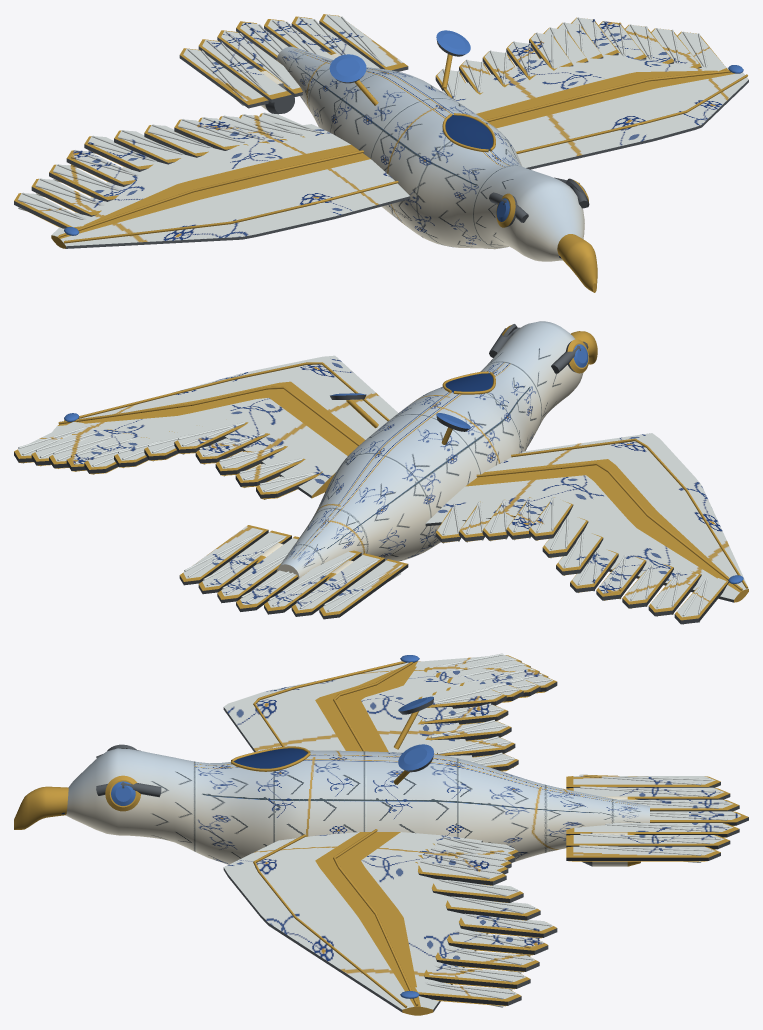
The picture shows the model from 3 angles, top to bottom: view 1: azimuth 30°, elevation 25°; view 2: azimuth 150°, elevation 25°; view 3: azimuth 270°, elevation 25°; orthographic projection. The views are drawn at different scales.
Visible parts, largest first — view 1: osprey_hull; view 2: osprey_hull; view 3: osprey_hull.
Boxes of the visible parts, bbox=[...] form: osprey_hull: bbox=[14, 14, 748, 292]; osprey_hull: bbox=[14, 321, 748, 624]; osprey_hull: bbox=[14, 653, 748, 1015].
Size of the model in its own units: 41 by 8.67 by 36.76.
1 material, 1 textured.
